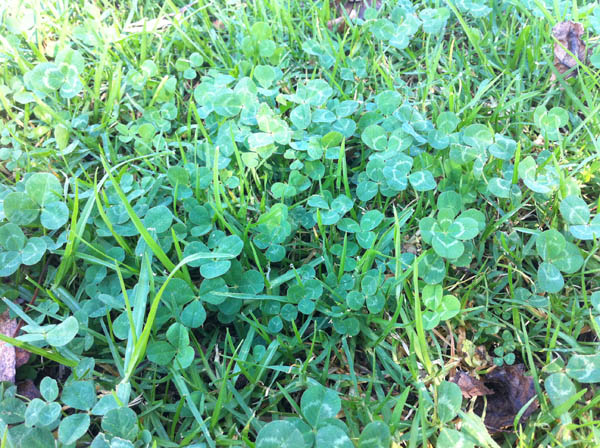4-clover: (421, 205, 481, 262)
